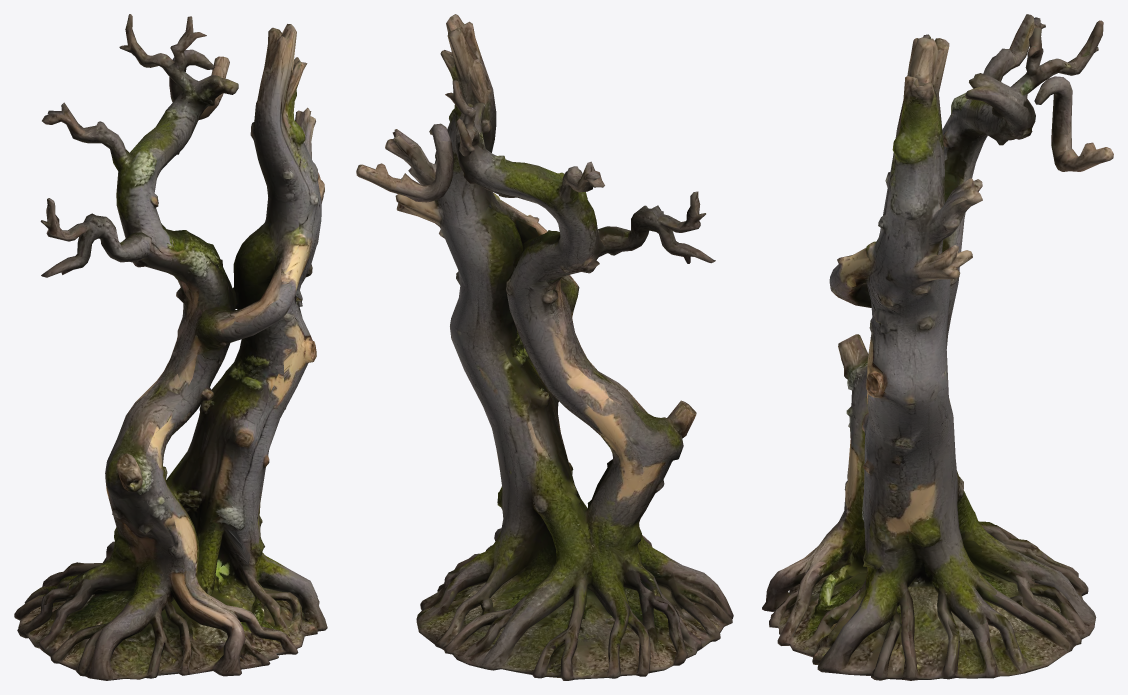
File: arvore-outono-2.glb
3 renders of one model, left to right at view 1: azimuth 30°, elevation 25°; view 2: azimuth 150°, elevation 25°; view 3: azimuth 270°, elevation 25°, orthographic. The views are drawn at different scales.
Parts seen in each view (by area): view 1: node_0; view 2: node_0; view 3: node_0.
Boxes of the visible parts, left/top/right/bottom form: node_0: left=14, top=14, right=327, bottom=680; node_0: left=356, top=14, right=733, bottom=680; node_0: left=762, top=14, right=1113, bottom=680.
Size of the model in its own units: 4.99 by 9 by 4.49.
Materials: 1 (1 with a texture image).
